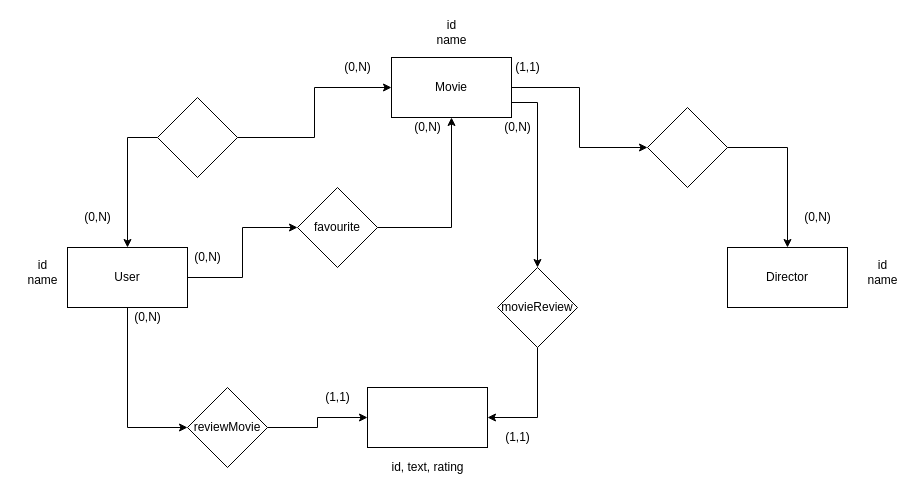
Image size: 924x494. Some labels were removed from this diagram. Each missing label, with the centre of its shape:
"isDirector" goes at [687,147].
"Review" goes at [427,417].
"watch" goes at [197,137].
